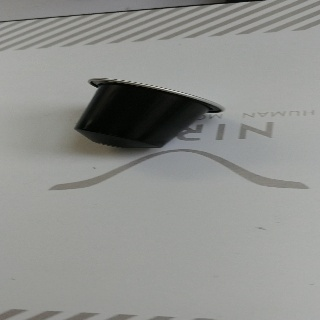capsule_10: (73, 77, 225, 149)
